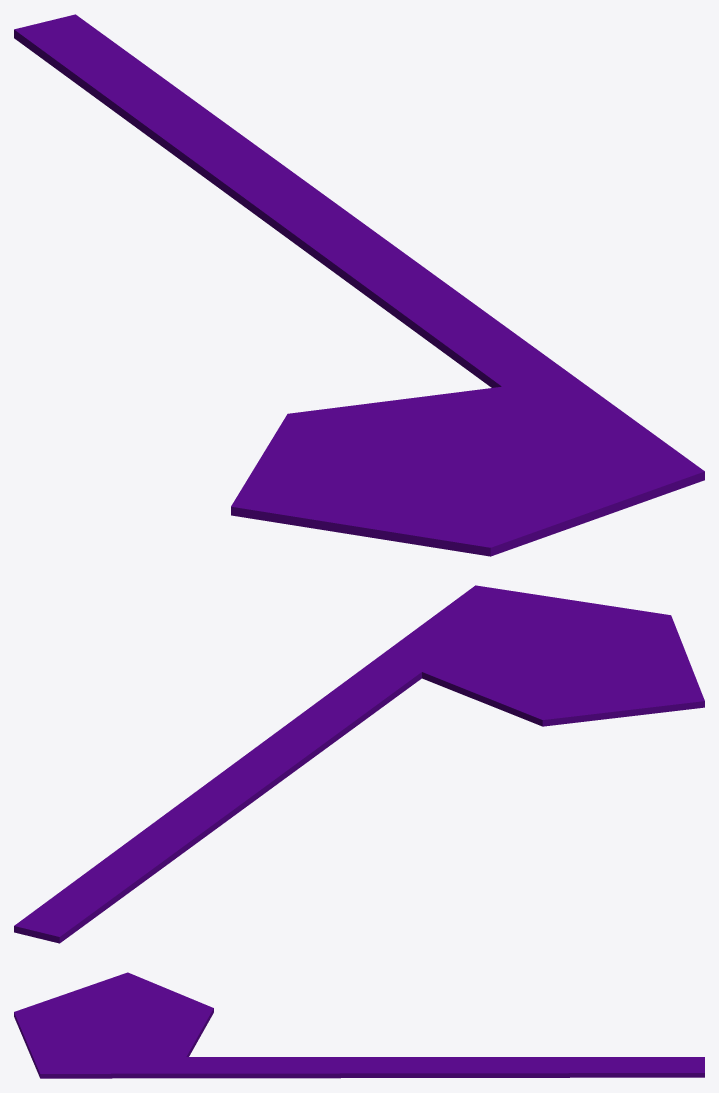
File: MusicNote02.fbx
The picture shows the model from 3 angles, top to bottom: view 1: azimuth 30°, elevation 25°; view 2: azimuth 150°, elevation 25°; view 3: azimuth 270°, elevation 25°; orthographic projection. The views are drawn at different scales.
Parts seen in each view (by area): view 1: musicNote2; view 2: musicNote2; view 3: musicNote2.
Boxes of the visible parts, left/top/right/bottom form: musicNote2: left=14, top=14, right=704, bottom=556; musicNote2: left=14, top=585, right=704, bottom=943; musicNote2: left=14, top=972, right=704, bottom=1078.
Size of the model in its own units: 2.33 by 0.05 by 6.71.
